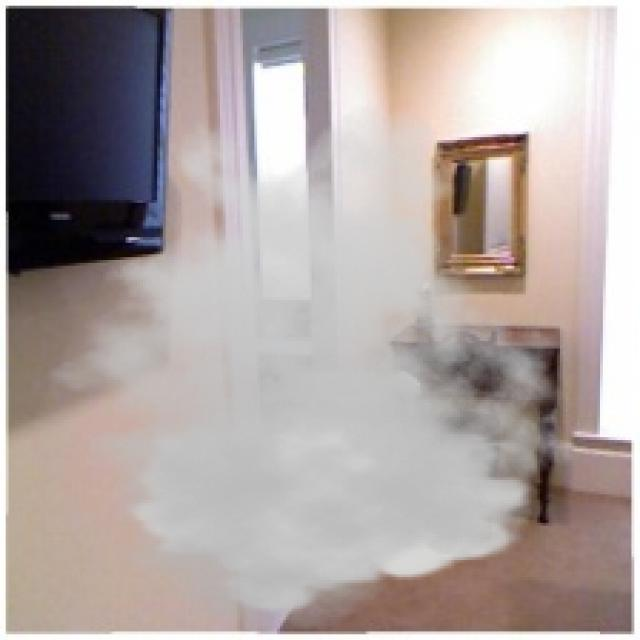smoke: (20, 103, 589, 631)
